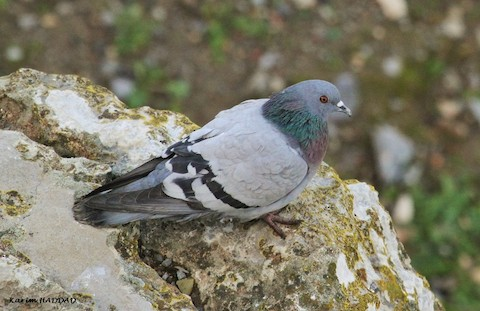pigeon: (73, 76, 355, 241)
